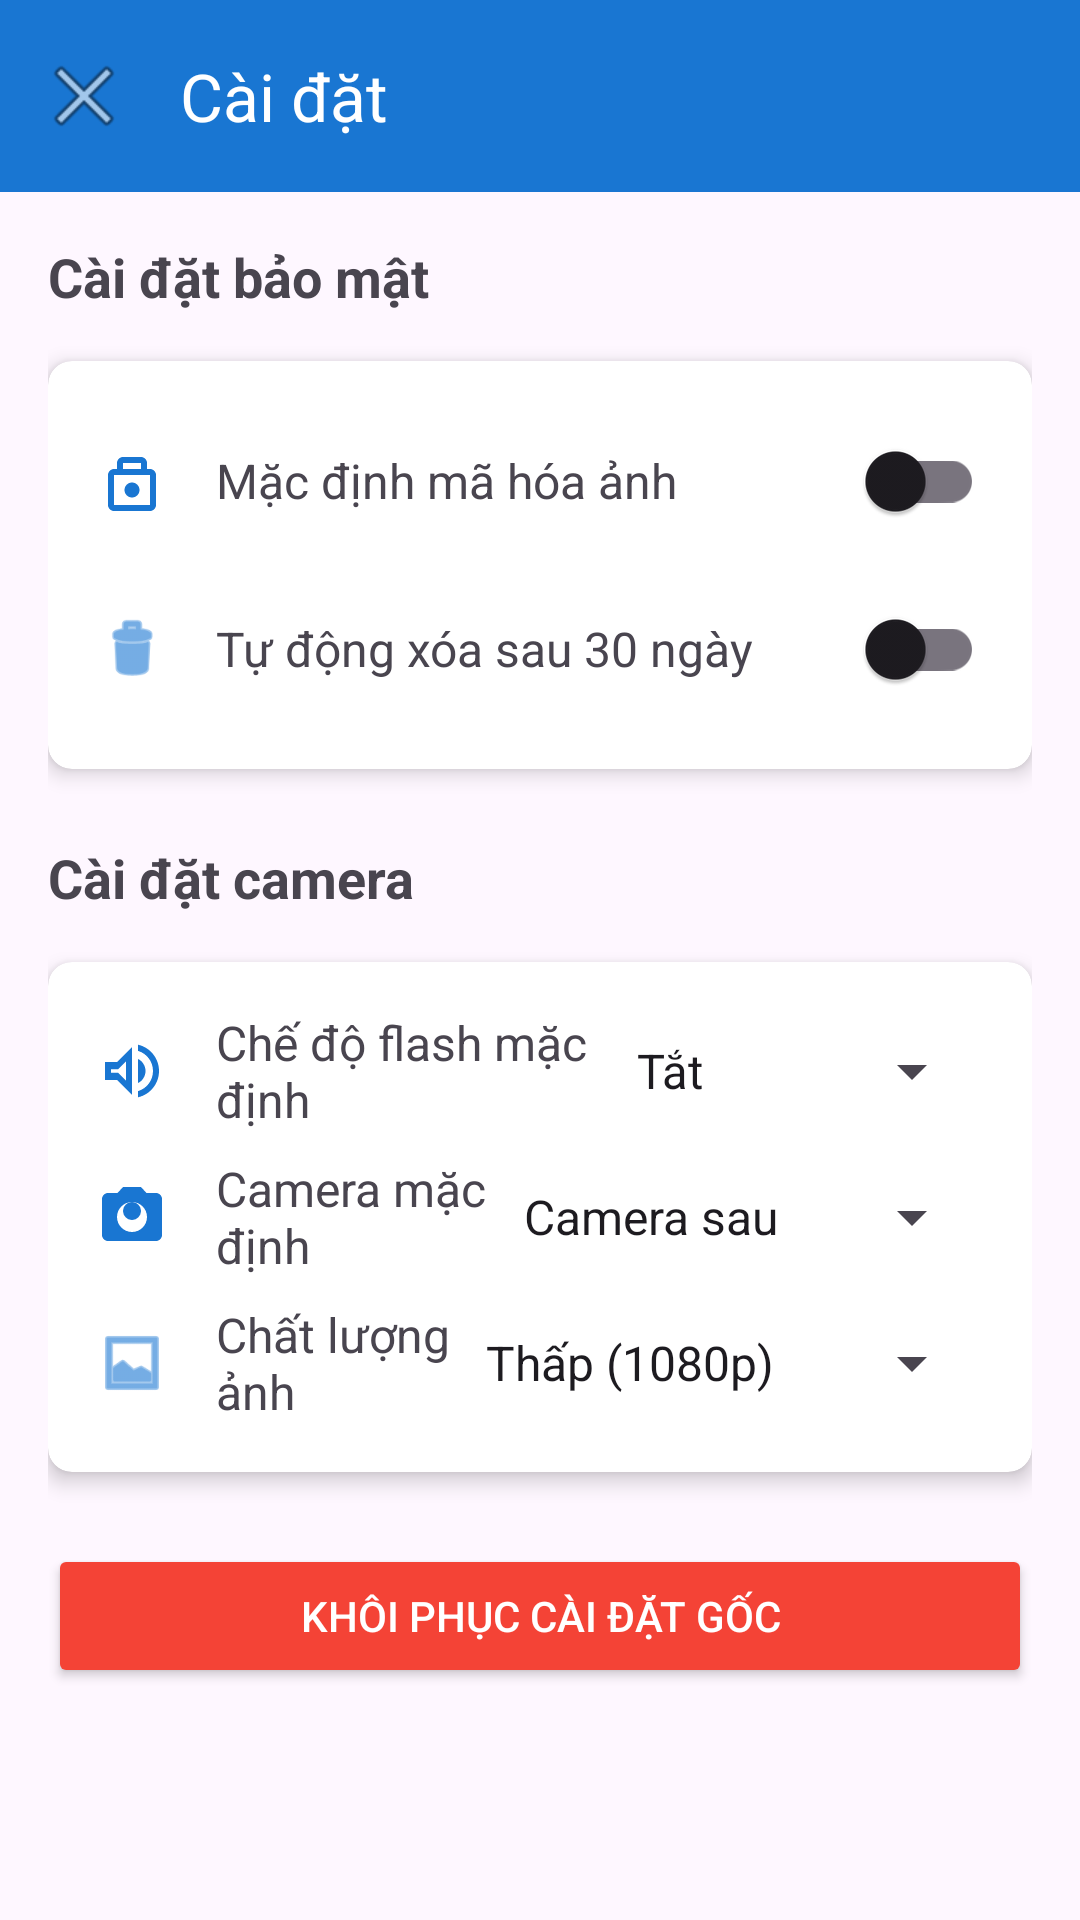

Icon bounding boxes for this 1080 × 1920 phone screenshot, format (x1, y1, x2, y2):
delete: (112, 620, 153, 676)
gallery: (105, 1336, 159, 1390)
lock: (108, 457, 156, 511)
